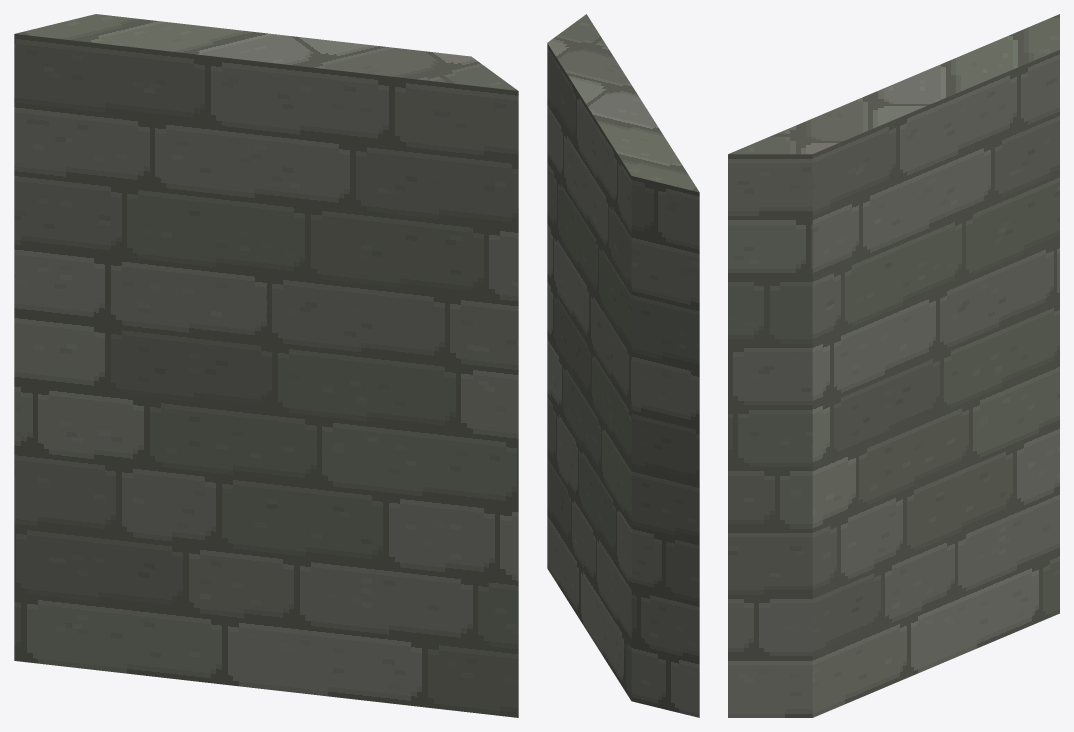
Rendered from diagonal_curtain.glb.
3 renders of one model, left to right at view 1: azimuth 30°, elevation 25°; view 2: azimuth 150°, elevation 25°; view 3: azimuth 270°, elevation 25°, orthographic. The views are drawn at different scales.
Parts seen in each view (by area): view 1: Diagonal curtain; view 2: Diagonal curtain; view 3: Diagonal curtain.
Boxes of the visible parts, x1,y1,x2,y2 form: Diagonal curtain: (14, 14, 518, 717); Diagonal curtain: (547, 14, 699, 717); Diagonal curtain: (728, 14, 1059, 717).
Size of the model in its own units: 1 by 1.88 by 1.
1 material, 1 textured.
